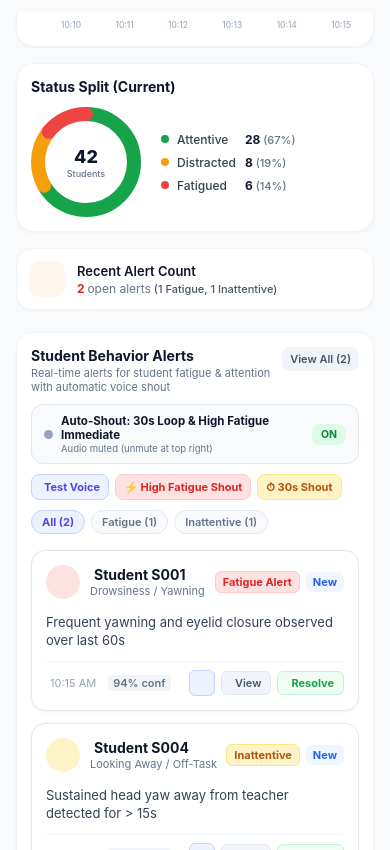
Test: Student Behavior Alerts & Voice Speech on Mobile Dashboard › toggles auto-shout state when toggle button is pressed
(page scrolled)
Expected: the text "ON" is shown, top-left (321, 428), bottom-right (337, 440)
Click the element with test id "auto-shout-toggle-btn". click: (329, 434)
box: top-left (312, 424), bottom-right (346, 444)
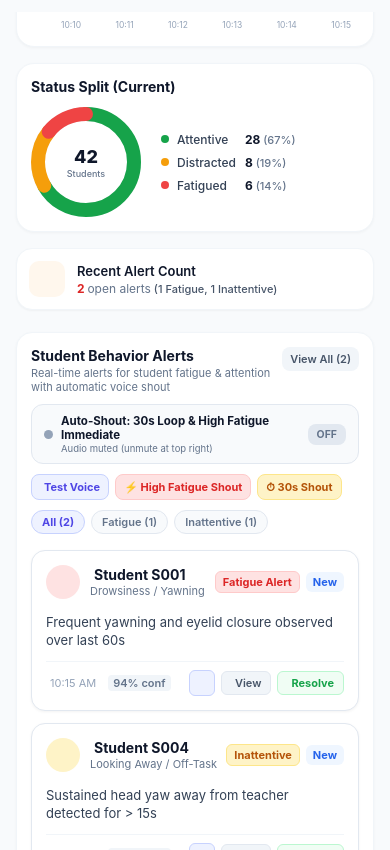
Expected: the text "OFF" is shown, top-left (317, 428), bottom-right (337, 440)
